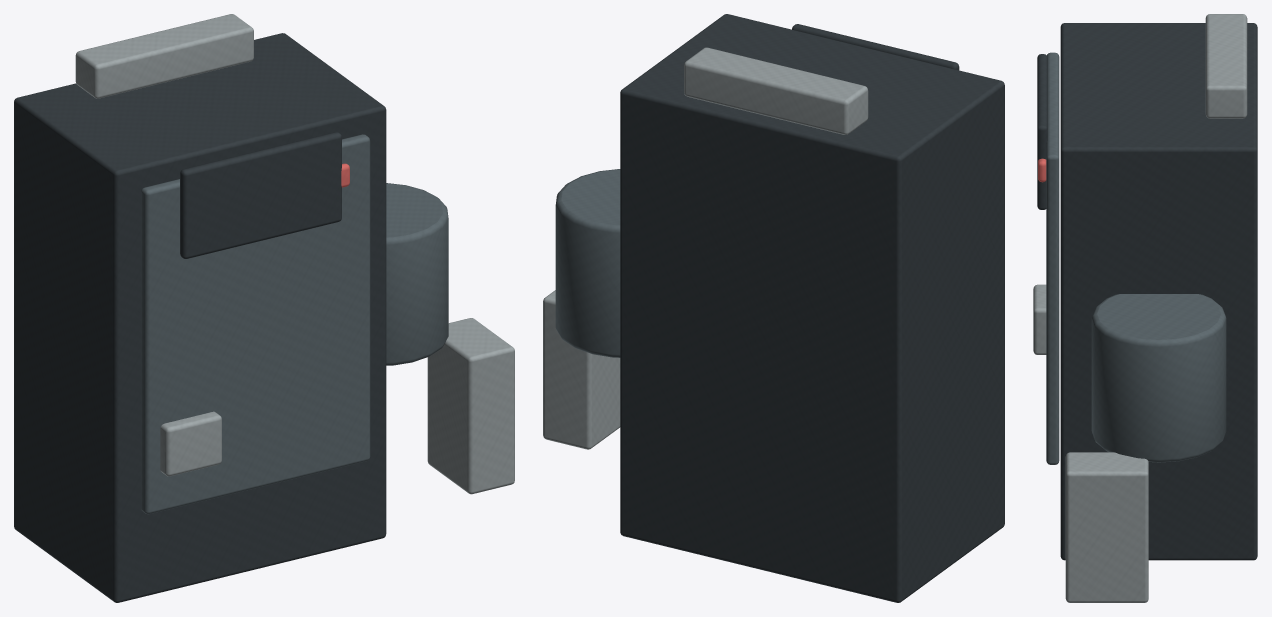
Rendered from PortableContaminationMonitor.glb.
3 renders of one model, left to right at view 1: azimuth 30°, elevation 25°; view 2: azimuth 150°, elevation 25°; view 3: azimuth 270°, elevation 25°, orthographic. The views are drawn at different scales.
Parts seen in each view (by area): view 1: PortableContaminationMonitor_Mesh; view 2: PortableContaminationMonitor_Mesh; view 3: PortableContaminationMonitor_Mesh.
Boxes of the visible parts, box(x1,y1,x2,y2) form: PortableContaminationMonitor_Mesh: box(14, 14, 514, 602); PortableContaminationMonitor_Mesh: box(543, 14, 1004, 602); PortableContaminationMonitor_Mesh: box(1033, 14, 1257, 602).
Size of the model in its own units: 0.86 by 0.955 by 0.4325.
4 materials, 4 textured.
